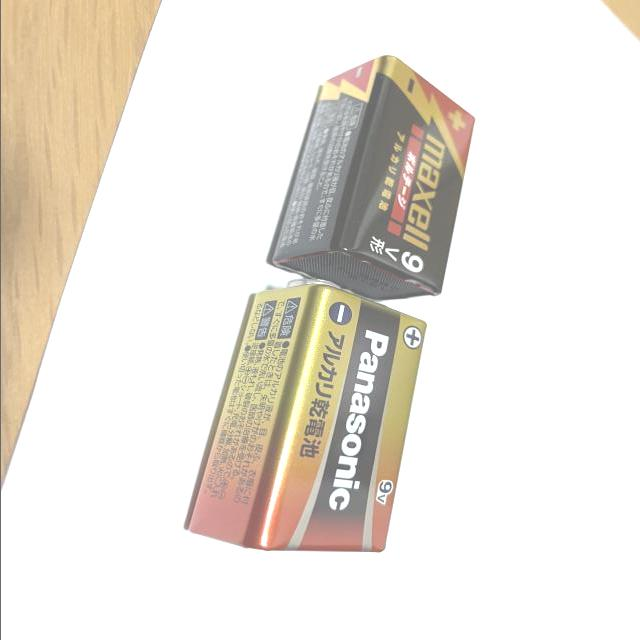9V: (180, 277, 429, 554), (268, 53, 477, 303)
